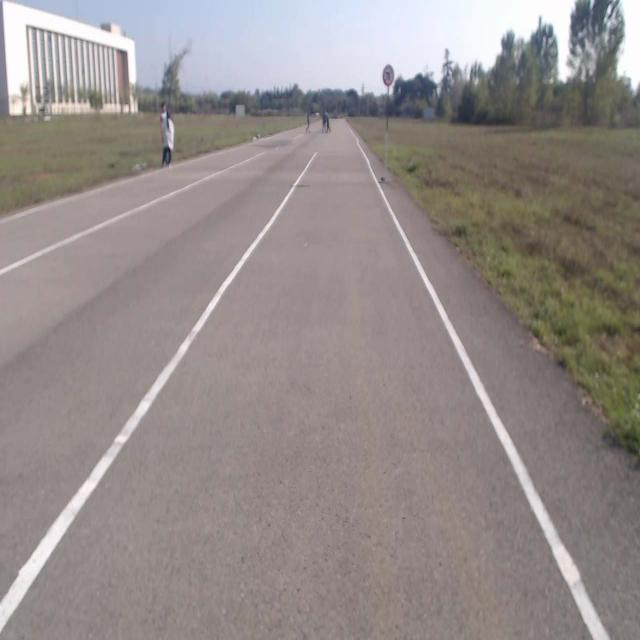soladonulmez: (383, 64, 394, 85)
